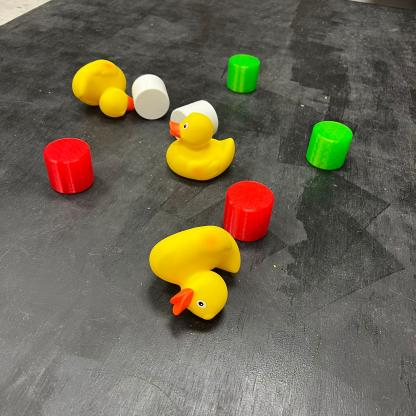duck: (148, 224, 242, 322), (166, 112, 236, 182), (72, 58, 135, 118)
green cylinder: (305, 120, 354, 172), (226, 54, 261, 94)
red cylinder: (223, 179, 275, 243), (42, 137, 96, 195)
white cylinder: (169, 99, 220, 140), (130, 73, 170, 121)
